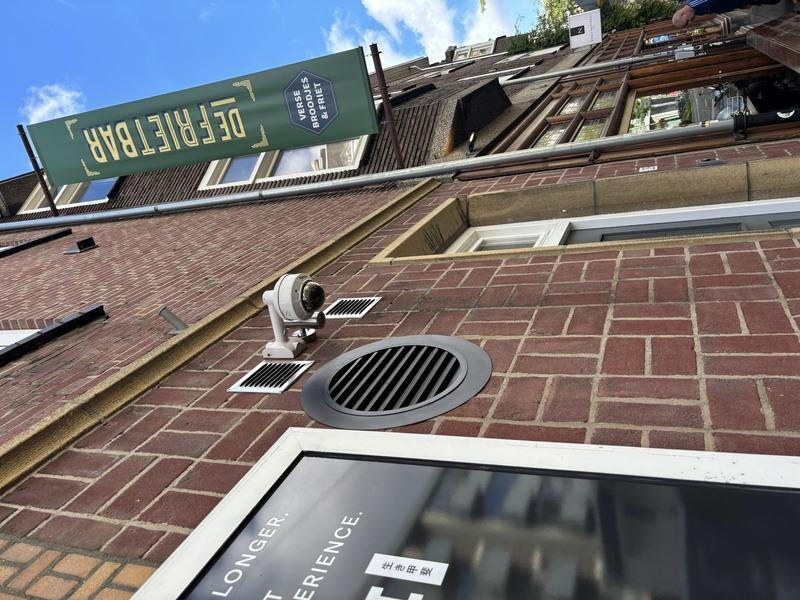dome: (278, 263, 330, 329)
